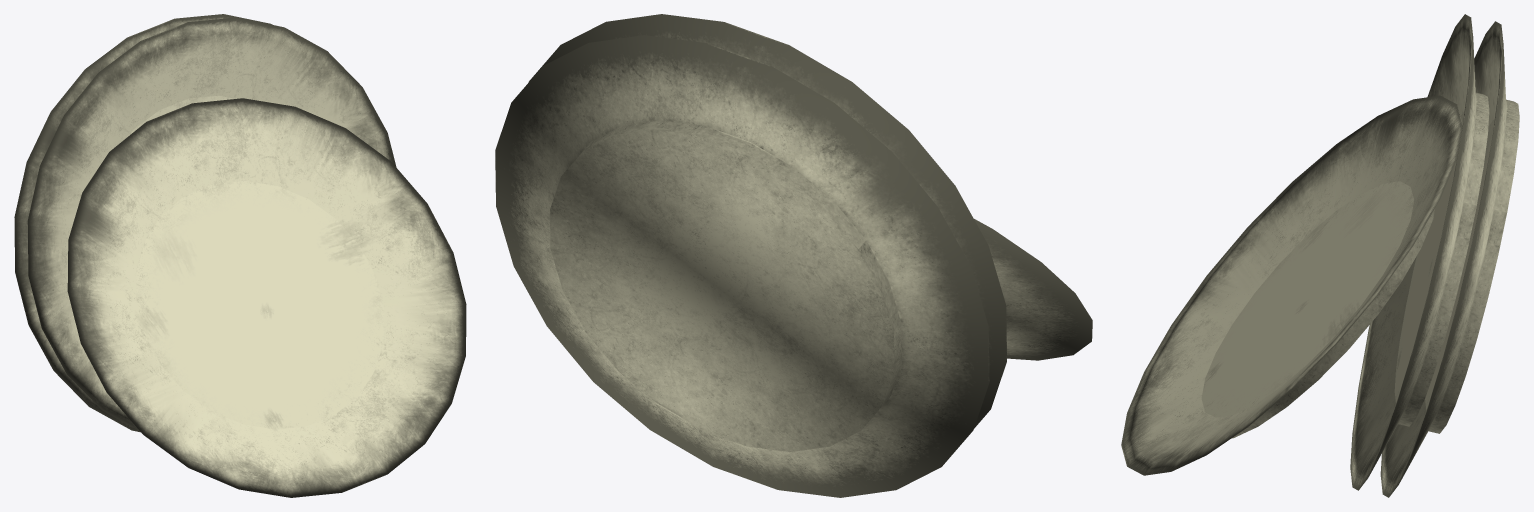
3 views of the same model, side by side, from view 1: azimuth 30°, elevation 25°; view 2: azimuth 150°, elevation 25°; view 3: azimuth 270°, elevation 25° (orthographic). The views are drawn at different scales.
Parts seen in each view (by area): view 1: plate.006; view 2: plate.006; view 3: plate.006.
Part boxes in pixels (left/top/right/bottom): plate.006: left=14, top=14, right=466, bottom=497; plate.006: left=495, top=14, right=1092, bottom=497; plate.006: left=1121, top=14, right=1519, bottom=497.
Bounding box in the file's own units: 0.9771 × 0.9615 × 0.7931.
Materials: 1 (1 with a texture image).
